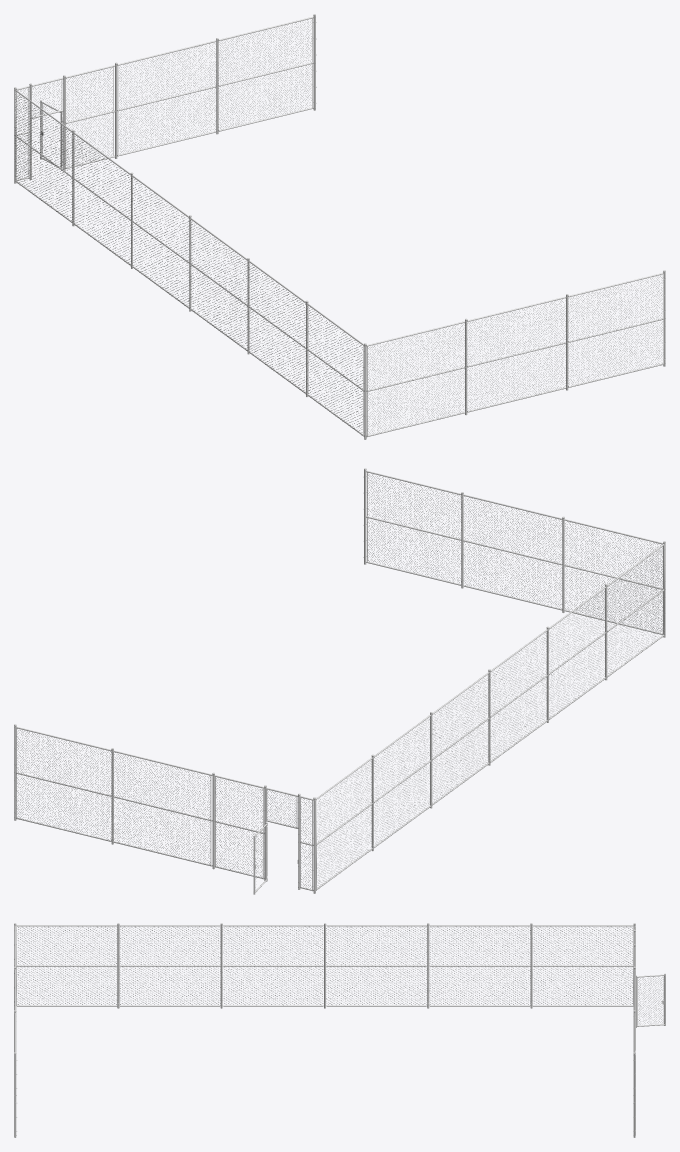
The model's file is courtOutside.fbx.
The picture shows the model from 3 angles, top to bottom: view 1: azimuth 30°, elevation 25°; view 2: azimuth 150°, elevation 25°; view 3: azimuth 270°, elevation 25°; orthographic projection. The views are drawn at different scales.
Parts seen in each view (by area): view 1: Fence_Side, Fence_Back.001, Fence_Front; view 2: Fence_Side, Fence_Front, Fence_Back.001; view 3: Fence_Side, Fence_Front_Door, Fence_Back.001, Fence_Front.
Part boxes in pixels (left/top/right/bottom): Fence_Side: left=15, top=90, right=364, bottom=436; Fence_Back.001: left=363, top=270, right=665, bottom=439; Fence_Front: left=14, top=14, right=316, bottom=183; Fence_Side: left=316, top=544, right=664, bottom=890; Fence_Front: left=14, top=724, right=316, bottom=893; Fence_Back.001: left=363, top=468, right=665, bottom=637; Fence_Side: left=16, top=923, right=633, bottom=1008; Fence_Front_Door: left=636, top=973, right=665, bottom=1027; Fence_Back.001: left=14, top=923, right=17, bottom=1137; Fence_Front: left=633, top=923, right=635, bottom=1137.
Bounding box in the file's own units: 1287 × 390 × 2721.
